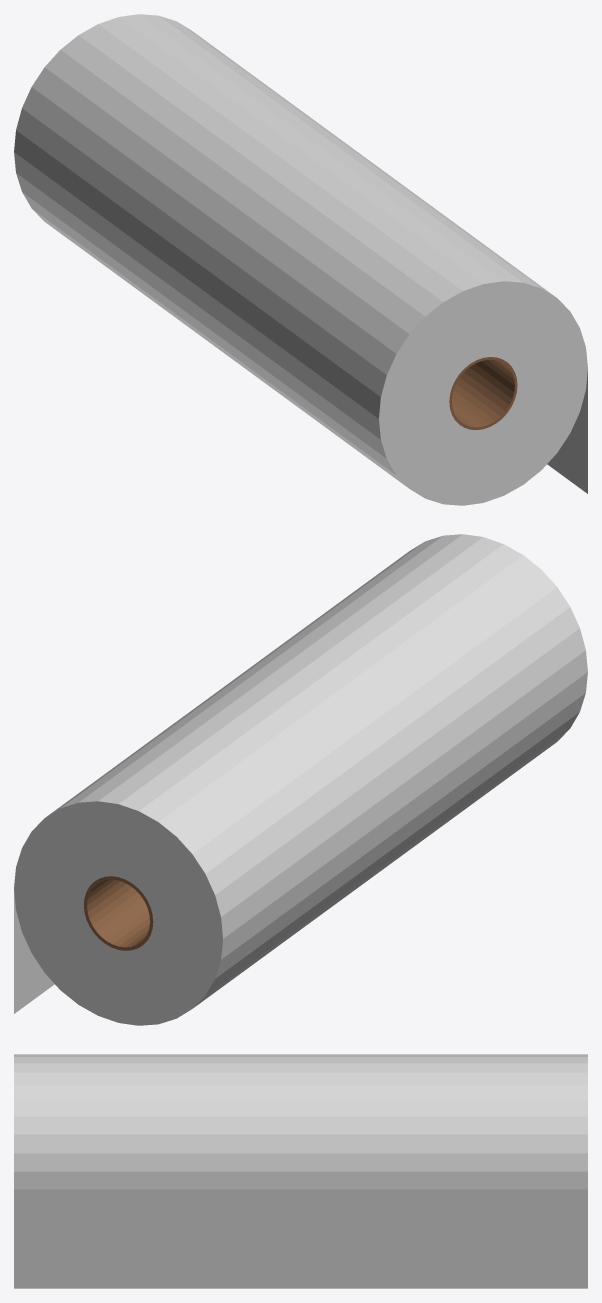
Rendered from Rollodepapel.fbx.
3 views of the same model, one above another, from view 1: azimuth 30°, elevation 25°; view 2: azimuth 150°, elevation 25°; view 3: azimuth 270°, elevation 25° (orthographic). The views are drawn at different scales.
Visible parts, largest first — view 1: Papel del baño.001; view 2: Papel del baño.001; view 3: Papel del baño.001.
Boxes of the visible parts, x1,y1,x2,y2 form: Papel del baño.001: (14,14,587,505); Papel del baño.001: (14,534,587,1025); Papel del baño.001: (14,1054,587,1288).
Bounding box in the file's own units: 1.86 × 2 × 5.62.
